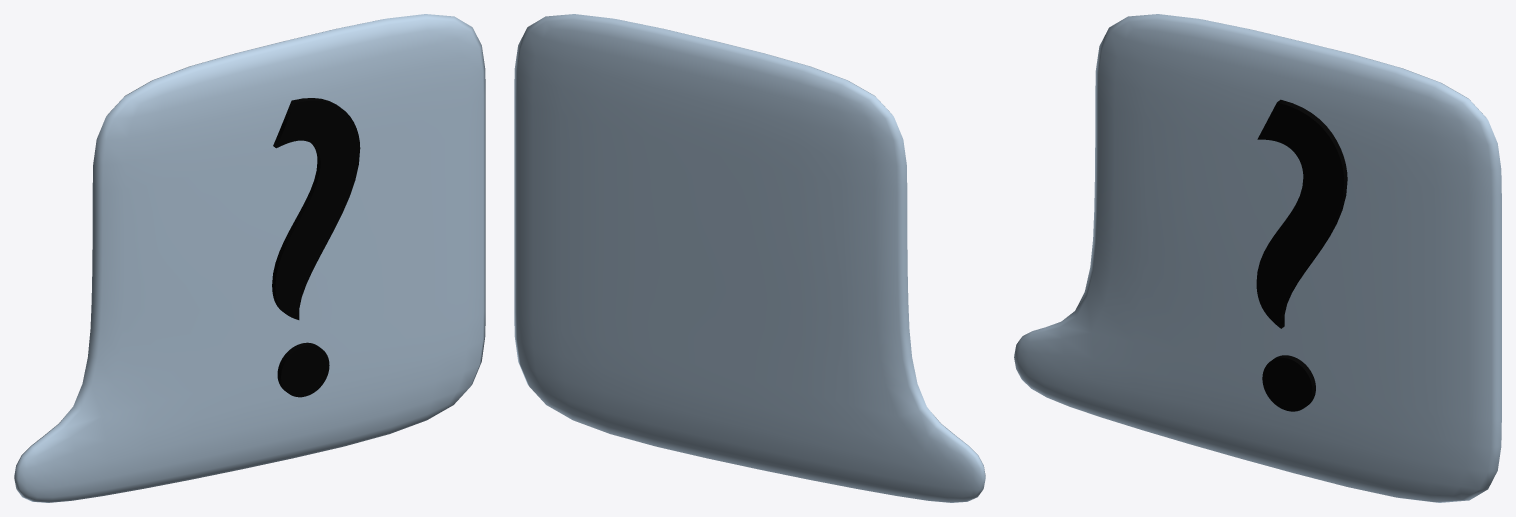
The model's file is fosh2.fbx.
3 views of the same model, side by side, from view 1: azimuth 30°, elevation 25°; view 2: azimuth 150°, elevation 25°; view 3: azimuth 330°, elevation 25° (orthographic). The views are drawn at different scales.
Parts seen in each view (by area): view 1: Cube, Text; view 2: Cube; view 3: Cube, Text.
Boxes of the visible parts, x1,y1,x2,y2 form: Cube: (14,14,485,502); Text: (272,98,360,397); Cube: (514,14,985,502); Cube: (1014,14,1501,502); Text: (1256,99,1347,411).
Bounding box in the file's own units: 125 × 106 × 10.83.
